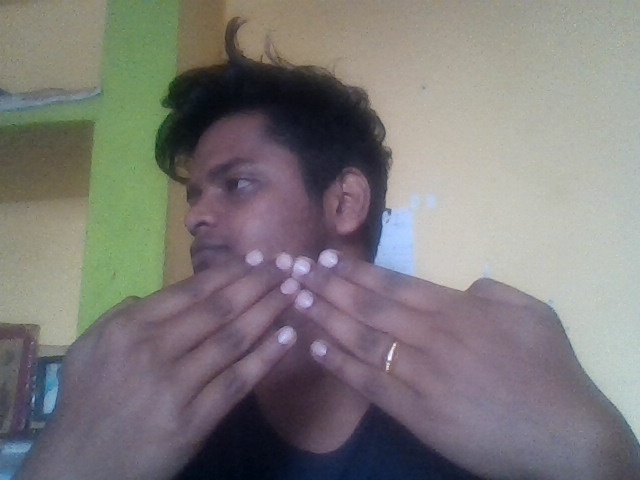thanks: (26, 237, 640, 463)
